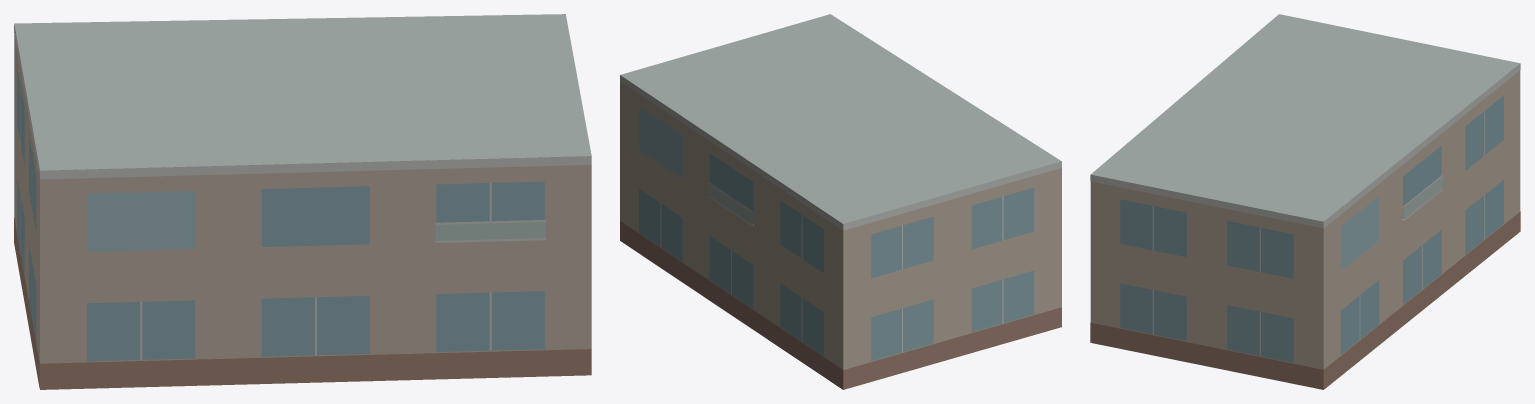
Rendered from survey-upis-32817831.glb.
3 renders of one model, left to right at view 1: azimuth 30°, elevation 25°; view 2: azimuth 150°, elevation 25°; view 3: azimuth 270°, elevation 25°, orthographic. The views are drawn at different scales.
Parts seen in each view (by area): view 1: survey-upis-32817831.tmp; view 2: survey-upis-32817831.tmp; view 3: survey-upis-32817831.tmp.
Part boxes in pixels (bbox=[...]): survey-upis-32817831.tmp: bbox=[14, 14, 591, 389]; survey-upis-32817831.tmp: bbox=[620, 14, 1061, 389]; survey-upis-32817831.tmp: bbox=[1090, 14, 1520, 389].
Size of the model in its own units: 16.17 by 6.1 by 14.15.
